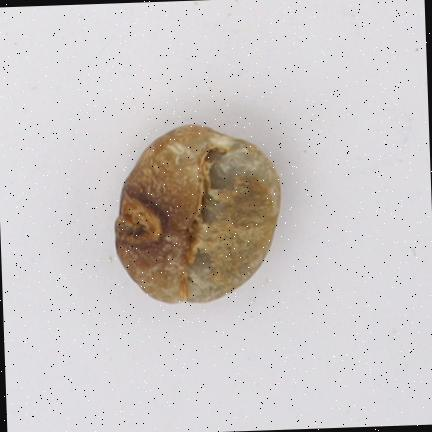broken: (115, 125, 280, 303)
